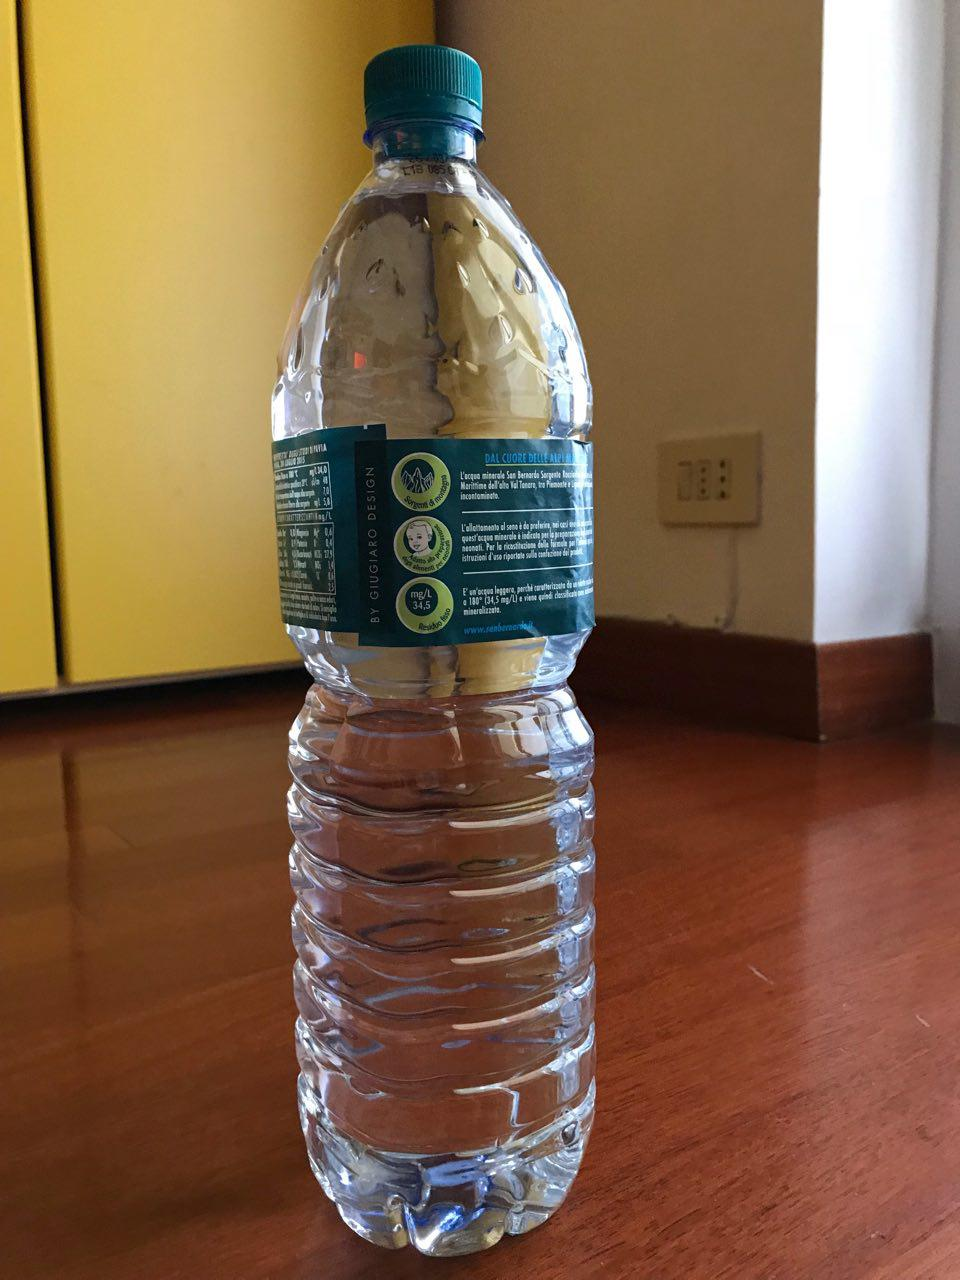san_bernardo: (266, 41, 600, 1260)
